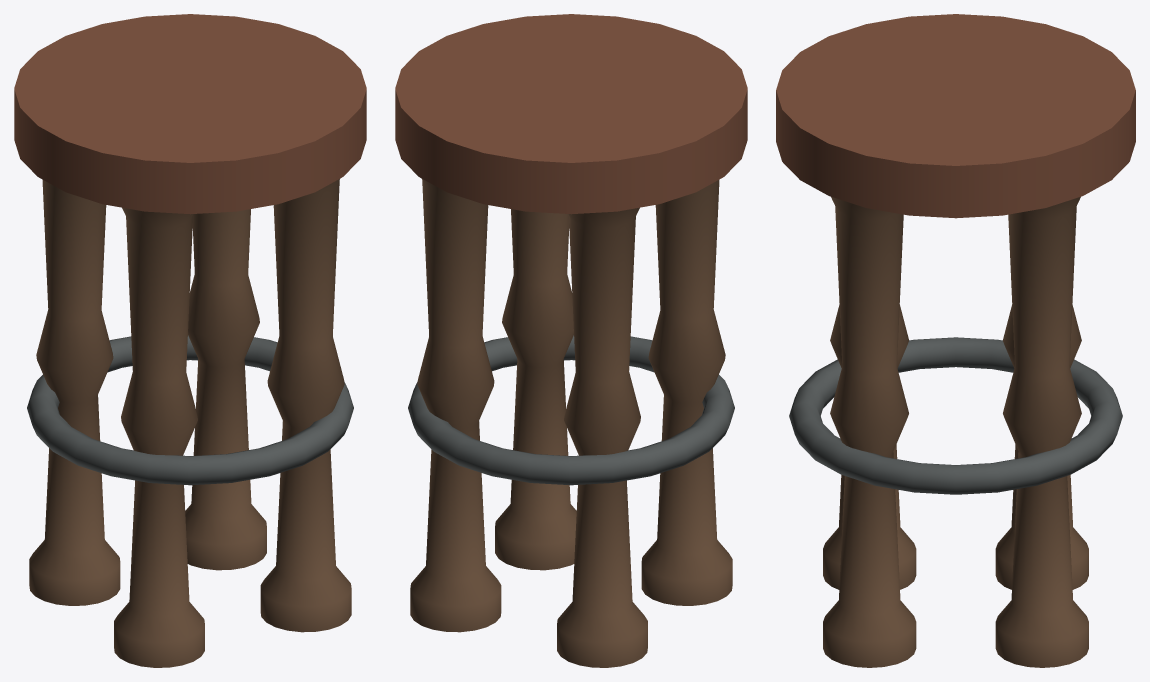
Rendered from adventurers-tavern-and-guild-hall-bar-stool-0d9c6e83__24698.glb.
3 renders of one model, left to right at view 1: azimuth 30°, elevation 25°; view 2: azimuth 150°, elevation 25°; view 3: azimuth 270°, elevation 25°, orthographic. The views are drawn at different scales.
Visible parts, largest first — view 1: bar-stool; view 2: bar-stool; view 3: bar-stool.
Boxes of the visible parts, box(x1,y1,x2,y2) form: bar-stool: box(14, 14, 366, 667); bar-stool: box(395, 14, 747, 667); bar-stool: box(776, 14, 1135, 667).
Size of the model in its own units: 0.5 by 0.8 by 0.5.
